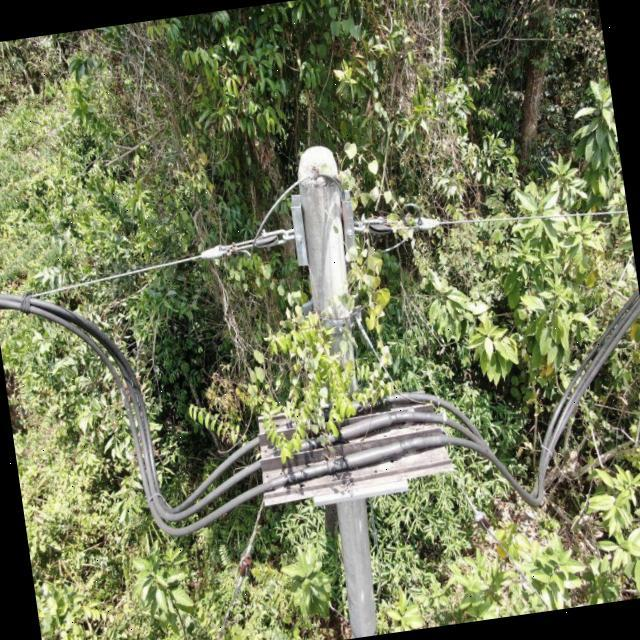critical vegetation: (197, 128, 460, 475)
